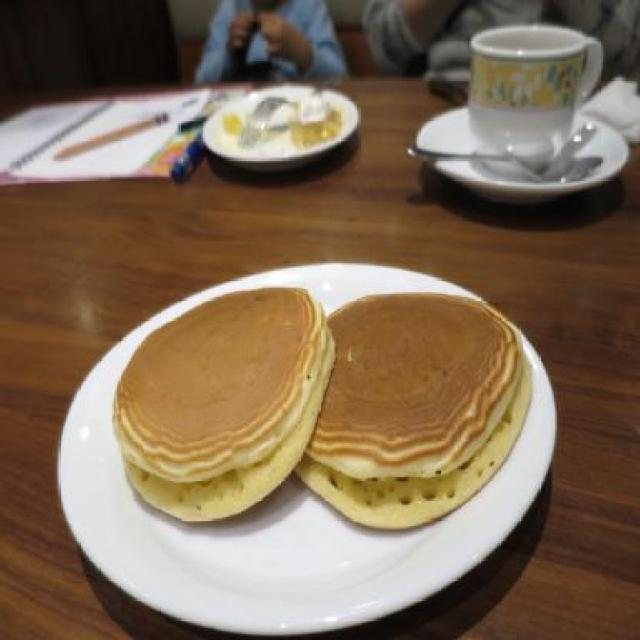Pancake: (109, 286, 338, 519), (304, 295, 524, 477)
